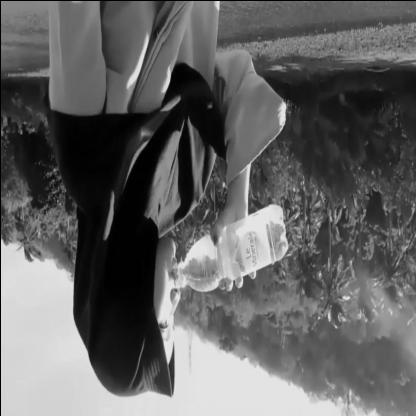plastic_bottles: (168, 198, 292, 297)
